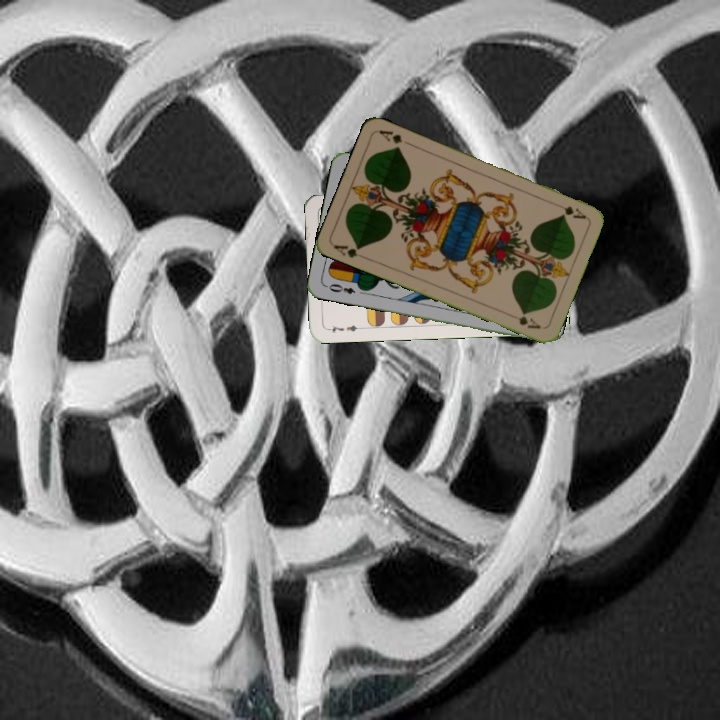E7: (324, 321, 364, 336)
EO: (322, 280, 358, 297)
GA: (551, 199, 589, 222), (330, 240, 369, 262)
